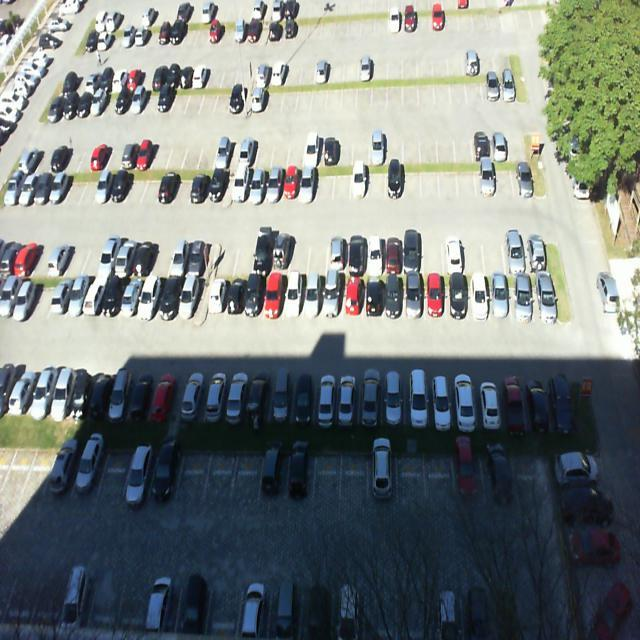space-empty: (94, 445, 132, 502), (231, 451, 264, 504), (204, 448, 238, 498), (175, 445, 208, 496), (312, 451, 342, 507), (21, 446, 55, 494), (483, 227, 507, 275), (148, 237, 172, 278), (425, 229, 445, 276), (139, 165, 162, 205), (287, 234, 310, 274), (172, 165, 193, 208), (229, 238, 252, 277), (464, 228, 484, 272), (213, 239, 236, 276), (307, 234, 328, 273), (458, 162, 478, 198), (494, 160, 514, 195), (368, 162, 386, 200), (422, 163, 440, 198), (333, 165, 350, 202), (403, 163, 420, 198), (440, 162, 458, 195), (316, 166, 332, 200)
space-occupied: (123, 442, 158, 502), (71, 446, 106, 501), (148, 444, 182, 500), (43, 445, 78, 499), (545, 370, 576, 426), (499, 373, 528, 432), (223, 370, 254, 424), (259, 448, 290, 500), (523, 371, 550, 428), (64, 367, 93, 420), (476, 372, 502, 429), (117, 271, 146, 322), (222, 272, 249, 326), (83, 371, 112, 421), (288, 449, 314, 504), (106, 371, 134, 422), (452, 374, 479, 426), (136, 267, 162, 320), (428, 375, 454, 428), (127, 370, 154, 420), (312, 372, 336, 428), (268, 373, 294, 424), (154, 274, 180, 324), (203, 370, 229, 420), (246, 372, 272, 422), (262, 270, 286, 324), (530, 270, 557, 318), (148, 374, 175, 422), (359, 371, 382, 426), (174, 272, 198, 324), (382, 371, 405, 424), (101, 270, 125, 320), (241, 275, 265, 325), (335, 373, 359, 423), (290, 372, 313, 424), (405, 374, 428, 426), (486, 273, 511, 320), (181, 373, 206, 418), (443, 226, 466, 273), (205, 273, 225, 327), (130, 236, 156, 276), (113, 238, 140, 276), (509, 276, 532, 320), (303, 276, 324, 324), (155, 165, 178, 208), (525, 229, 548, 272), (444, 277, 467, 320), (467, 275, 488, 322), (188, 164, 211, 206), (363, 276, 384, 322), (282, 276, 302, 324), (167, 238, 192, 276), (505, 227, 526, 272), (322, 277, 343, 322), (188, 239, 212, 278), (511, 156, 534, 196), (404, 226, 424, 272), (404, 274, 424, 320), (426, 276, 446, 322), (382, 231, 404, 272), (204, 166, 226, 206), (231, 164, 252, 205), (384, 276, 402, 322), (345, 231, 364, 274), (268, 236, 290, 272), (251, 235, 272, 272), (345, 275, 362, 320), (324, 235, 344, 273), (364, 235, 383, 273), (478, 158, 496, 198), (299, 166, 317, 205), (267, 166, 284, 207), (283, 164, 300, 205), (250, 166, 268, 204), (388, 162, 404, 200), (351, 164, 367, 198)
